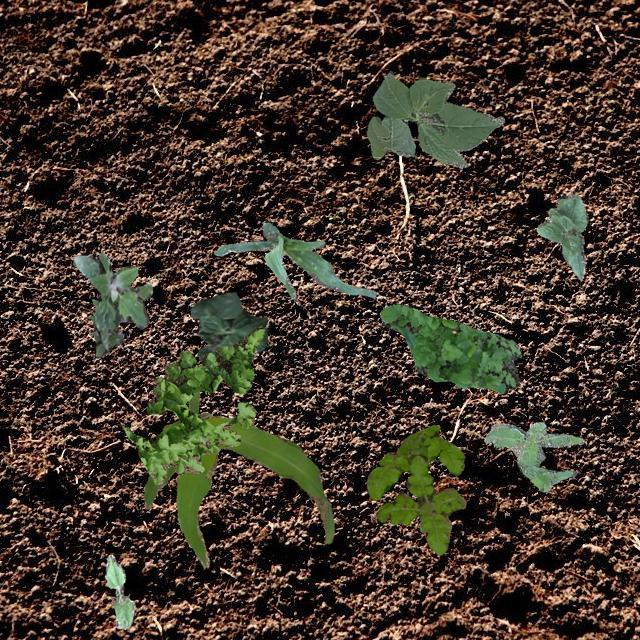crop: (142, 388, 334, 566), (366, 70, 504, 166), (213, 222, 374, 298), (188, 292, 266, 361), (536, 192, 588, 278), (104, 554, 134, 628)
weed: (122, 326, 264, 484), (366, 424, 464, 554), (378, 304, 520, 392), (72, 252, 152, 356), (483, 422, 582, 491)
